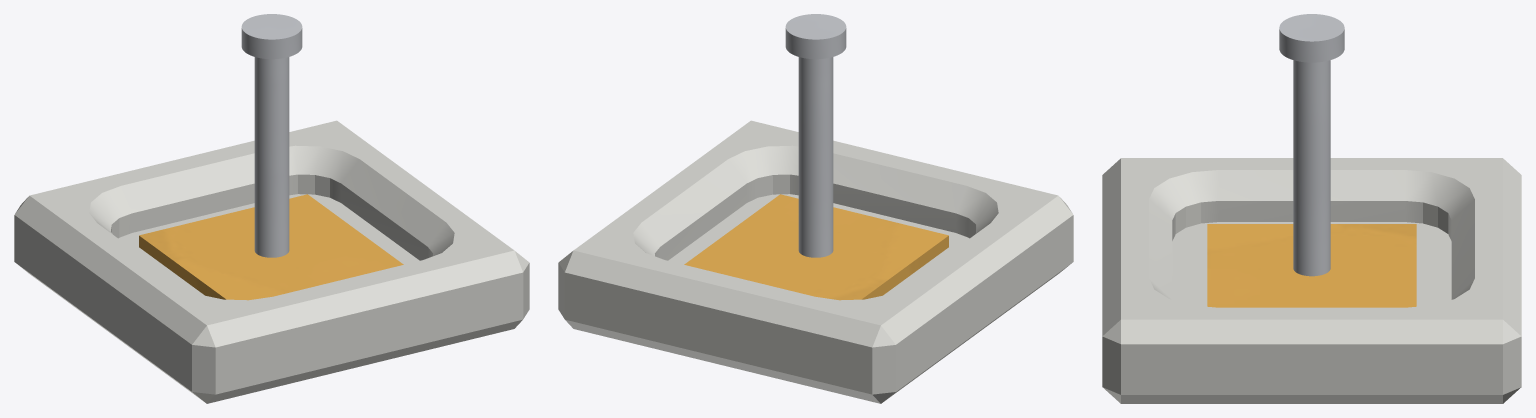
Rendered from ax_power_16_omni_antenna.glb.
3 views of the same model, side by side, from view 1: azimuth 30°, elevation 25°; view 2: azimuth 150°, elevation 25°; view 3: azimuth 270°, elevation 25° (orthographic). The views are drawn at different scales.
Visible parts, largest first — view 1: patch_pocket, patch_element, stub; view 2: patch_pocket, patch_element, stub; view 3: patch_pocket, patch_element, stub.
Part boxes in pixels (<box>): patch_pocket: <box>14,120,529,403</box>; patch_element: <box>139,194,403,300</box>; stub: <box>241,14,302,257</box>; patch_pocket: <box>558,120,1073,403</box>; patch_element: <box>684,194,948,300</box>; stub: <box>785,14,846,257</box>; patch_pocket: <box>1102,158,1521,403</box>; patch_element: <box>1207,224,1416,307</box>; stub: <box>1279,14,1344,276</box>.
Size of the model in its own units: 0.18 by 0.14 by 0.18.
Materials: 3 (2 with a texture image).
